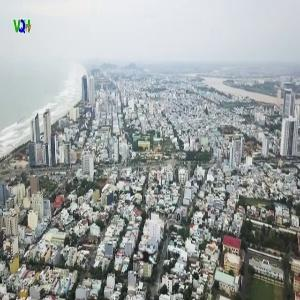drone: (111, 225, 180, 294)
